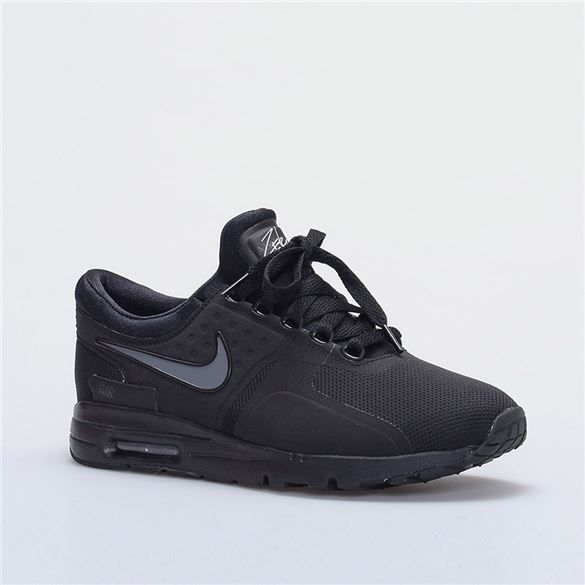nike: (99, 334, 235, 400)
